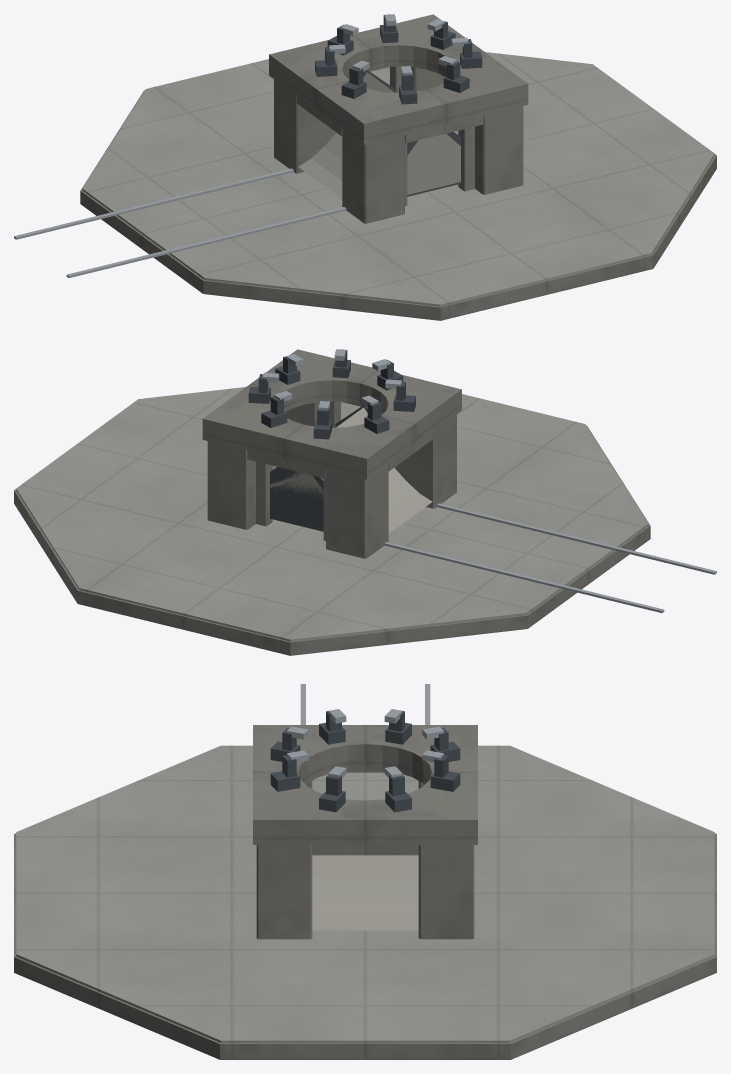
Rendered from pedestal_lc34.glb.
3 views of the same model, one above another, from view 1: azimuth 30°, elevation 25°; view 2: azimuth 150°, elevation 25°; view 3: azimuth 270°, elevation 25° (orthographic). The views are drawn at different scales.
Parts seen in each view (by area): view 1: pedestal_lc34, deflector_wedge, holddown; view 2: pedestal_lc34, deflector_wedge, holddown; view 3: pedestal_lc34, deflector_wedge, holddown.
Part boxes in pixels (<box>): pedestal_lc34: <box>14,14,716,320</box>; deflector_wedge: <box>298,70,460,198</box>; holddown: <box>315,14,482,104</box>; pedestal_lc34: <box>14,349,716,655</box>; deflector_wedge: <box>270,405,432,533</box>; holddown: <box>248,349,415,439</box>; pedestal_lc34: <box>14,684,716,1059</box>; deflector_wedge: <box>312,855,418,930</box>; holddown: <box>270,709,460,812</box>.
Size of the model in its own units: 18.91 by 4.2 by 15.82.
5 materials, 2 textured.
